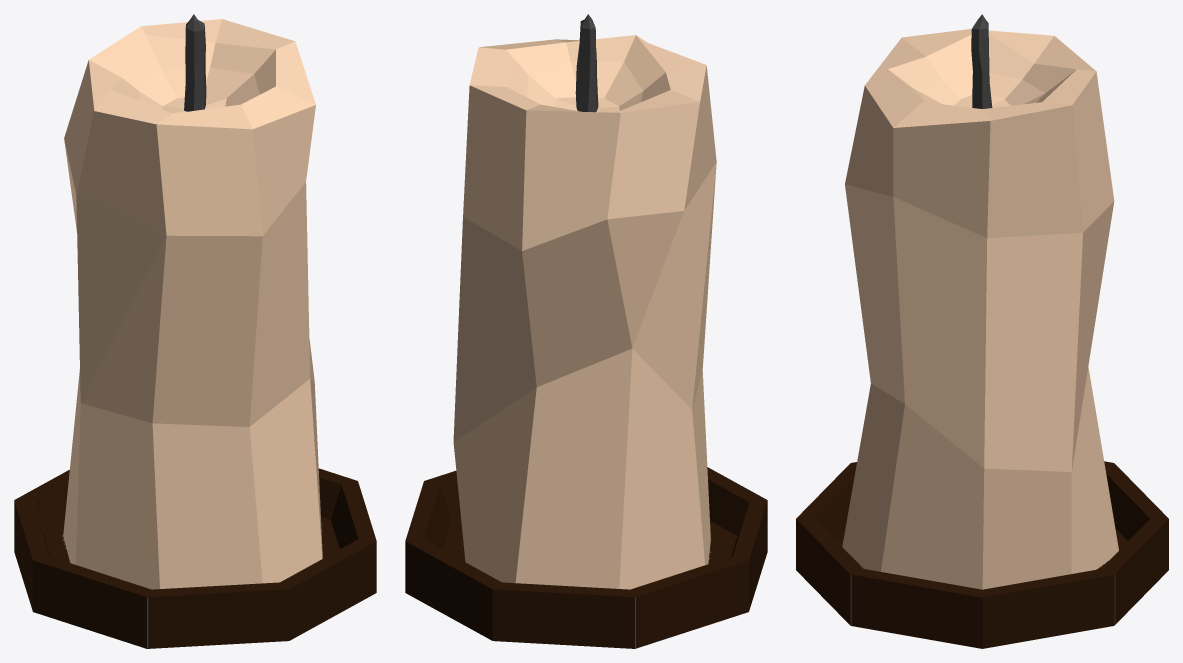
3 renders of one model, left to right at view 1: azimuth 30°, elevation 25°; view 2: azimuth 150°, elevation 25°; view 3: azimuth 270°, elevation 25°, orthographic.
Visible parts, largest first — view 1: Coloured_Candle1, Coloured_Coaster1, Coloured_Wick1; view 2: Coloured_Candle1, Coloured_Coaster1, Coloured_Wick1; view 3: Coloured_Candle1, Coloured_Coaster1, Coloured_Wick1.
Part boxes in pixels (x1=…): Coloured_Candle1: x1=63, y1=19, x2=322, y2=589; Coloured_Coaster1: x1=14, y1=468, x2=376, y2=648; Coloured_Wick1: x1=184, y1=14, x2=206, y2=111; Coloured_Candle1: x1=453, y1=35, x2=716, y2=589; Coloured_Coaster1: x1=405, y1=467, x2=767, y2=648; Coloured_Wick1: x1=575, y1=14, x2=598, y2=112; Coloured_Candle1: x1=842, y1=29, x2=1118, y2=589; Coloured_Coaster1: x1=796, y1=461, x2=1168, y2=648; Coloured_Wick1: x1=971, y1=14, x2=992, y2=108.
Size of the model in its own units: 11.01 by 18.09 by 11.01.
Materials: 1 (1 with a texture image).
